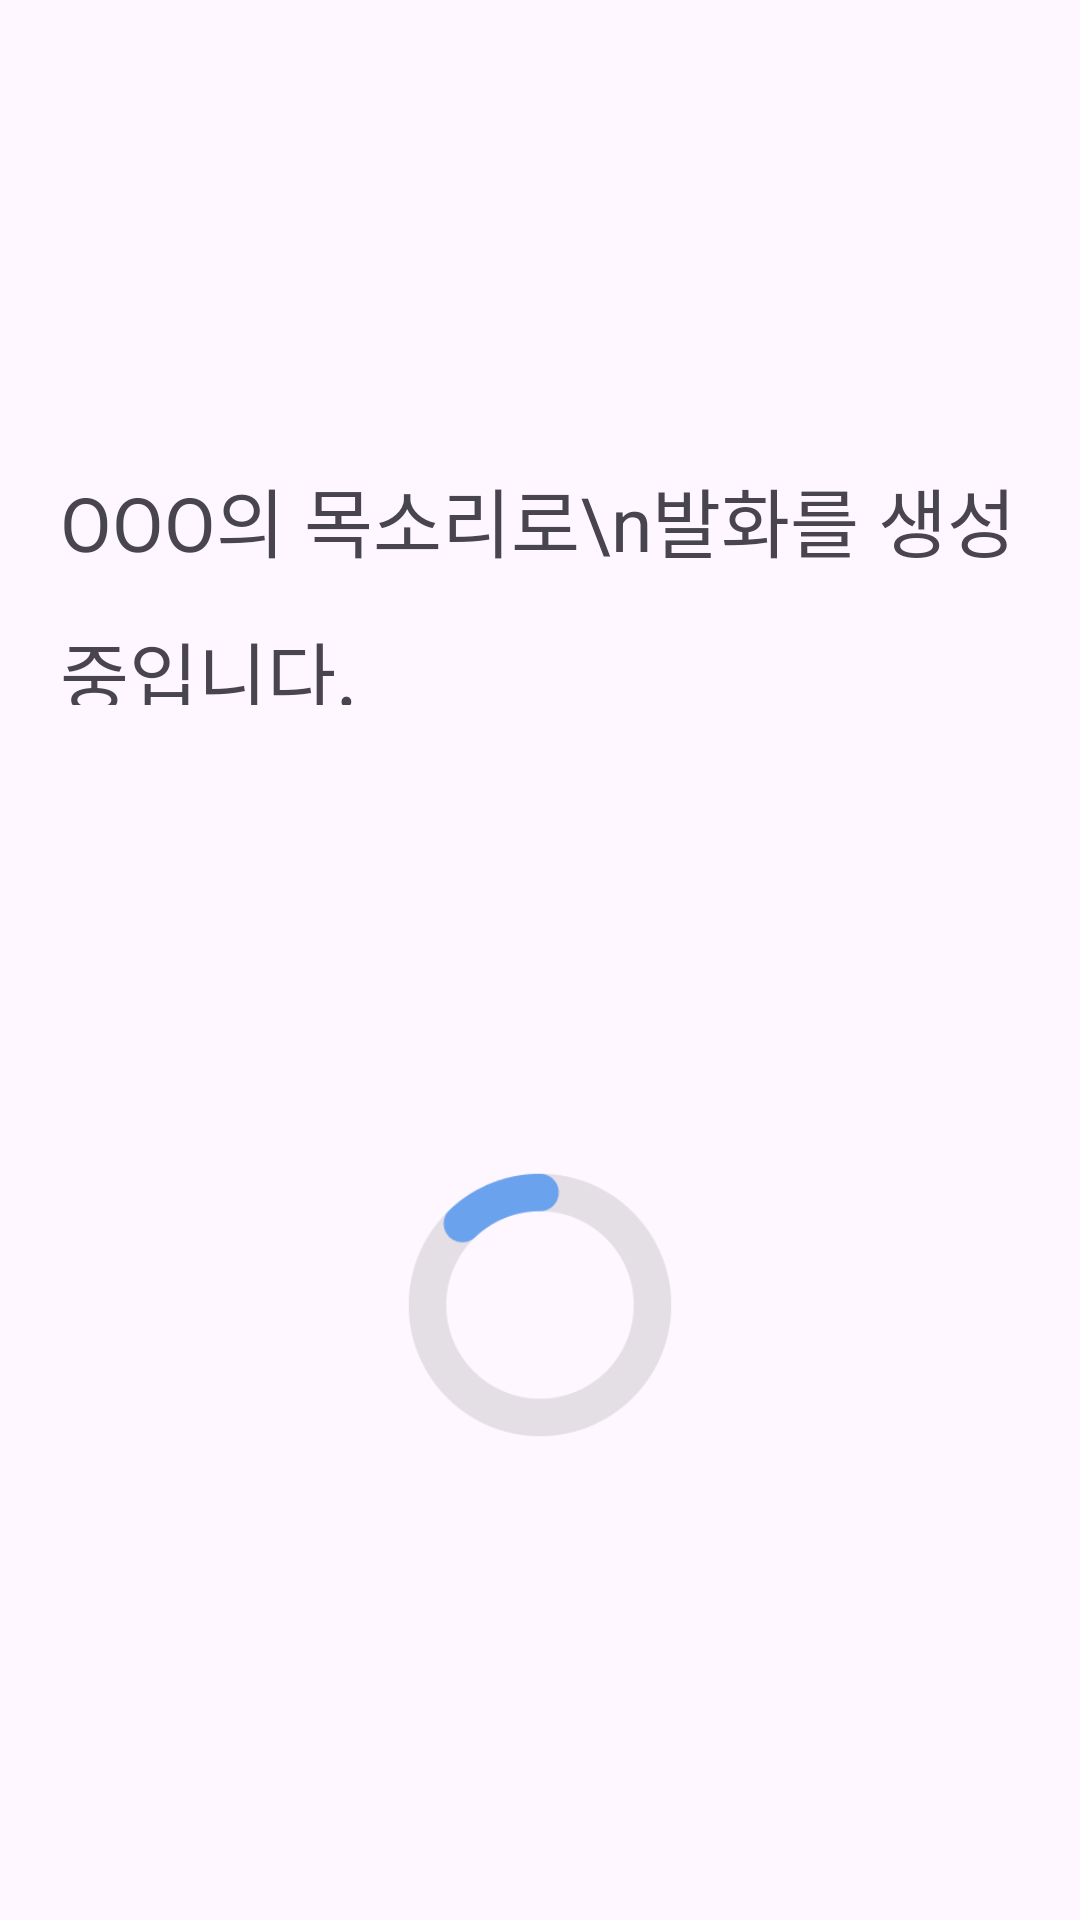

Screen size 1080x1920. Icon name, then its box in pixels as [x1, y1, x2, y2]:
loading: [409, 1173, 671, 1436]
